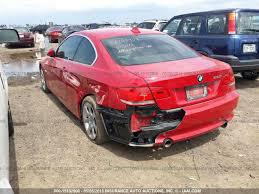quaterpanel-dent: (80, 73, 113, 103)
rear-bumper-dent: (109, 104, 188, 142)
